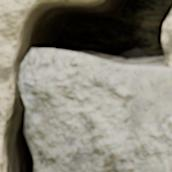brick: (19, 50, 171, 171)
crack: (2, 0, 171, 171)
